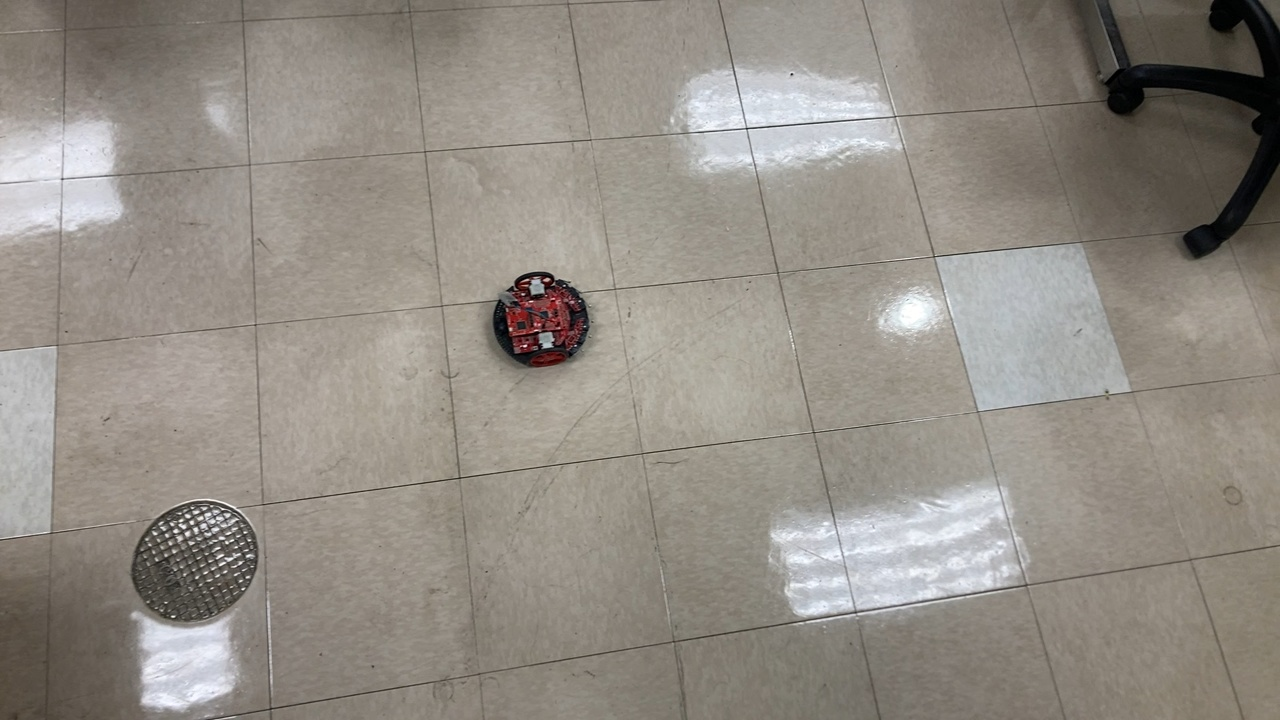robot: (491, 271, 589, 368)
